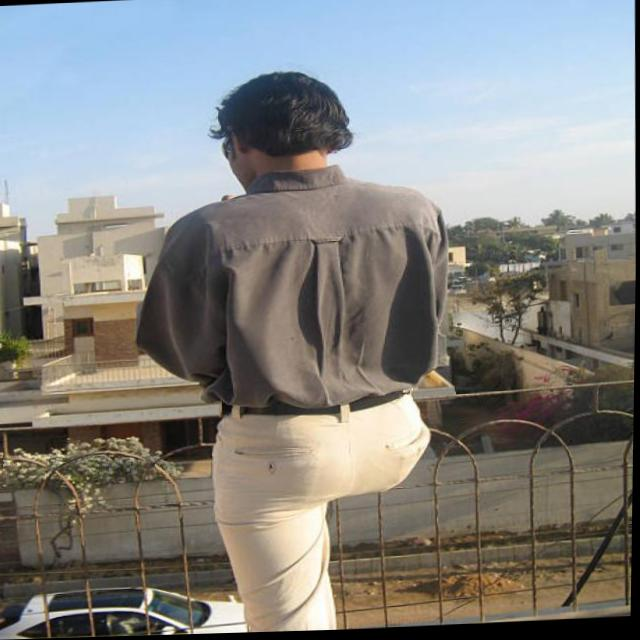no helmet: (208, 70, 351, 175)
